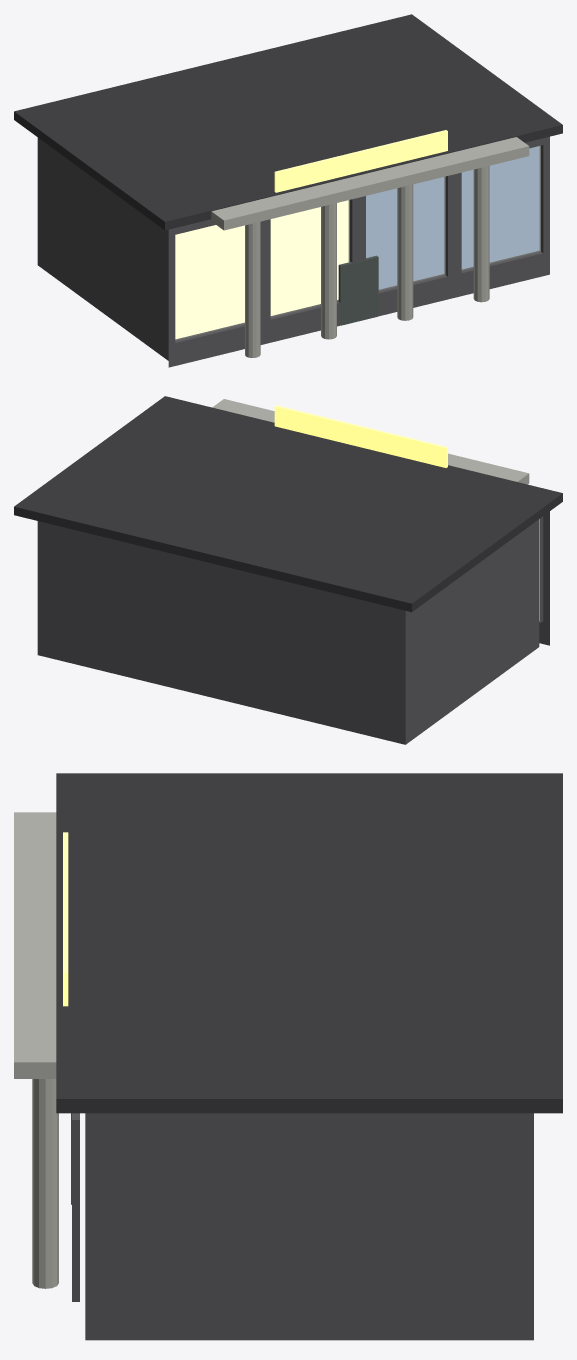
Rendered from lobby_granit.glb.
The picture shows the model from 3 angles, top to bottom: view 1: azimuth 30°, elevation 25°; view 2: azimuth 150°, elevation 25°; view 3: azimuth 270°, elevation 25°; orthographic projection. The views are drawn at different scales.
Parts seen in each view (by area): view 1: roof, shopfront, mass, pediment, sign_board, door, column.002, column.003, column.001, column; view 2: mass, roof, sign_board, pediment, shopfront; view 3: roof, mass, pediment, column.003, shopfront, sign_board.
Part boxes in pixels (bbox=[...]): roof: bbox=[14, 14, 562, 230]; shopfront: bbox=[168, 136, 549, 367]; mass: bbox=[37, 137, 168, 360]; pediment: bbox=[209, 137, 529, 230]; sign_board: bbox=[274, 130, 447, 192]; door: bbox=[338, 255, 378, 325]; column.002: bbox=[397, 184, 413, 320]; column.003: bbox=[473, 166, 489, 302]; column.001: bbox=[321, 203, 336, 339]; column: bbox=[245, 221, 260, 357]; mass: bbox=[37, 519, 539, 744]; roof: bbox=[14, 396, 562, 612]; sign_board: bbox=[274, 405, 447, 467]; pediment: bbox=[212, 399, 529, 484]; shopfront: bbox=[539, 511, 549, 645]; roof: bbox=[56, 773, 562, 1113]; mass: bbox=[85, 1113, 533, 1340]; pediment: bbox=[14, 812, 56, 1078]; column.003: bbox=[32, 1079, 58, 1288]; shopfront: bbox=[72, 1113, 79, 1301]; sign_board: bbox=[63, 832, 68, 1006].
Size of what is drawn, in the model's own units: 14.6 by 6 by 10.4.
